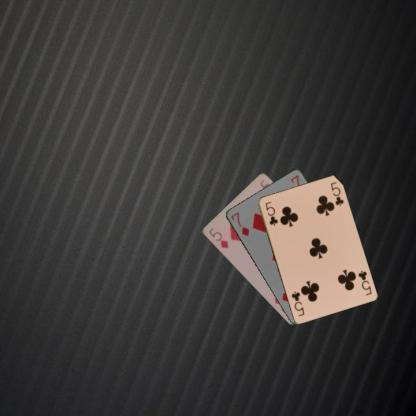5c: (355, 268, 373, 297), (262, 198, 279, 228)
5d: (206, 224, 229, 249)
7d: (228, 209, 250, 238)
